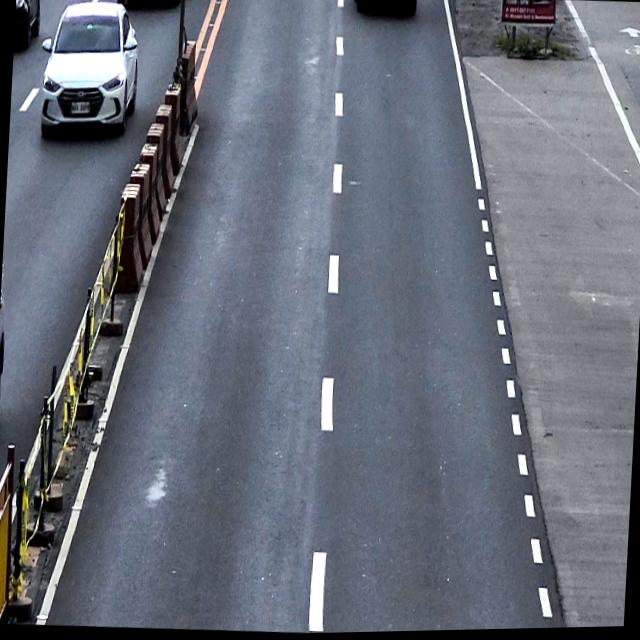Car: (38, 0, 144, 138), (14, 0, 43, 56)
License-Plate: (70, 101, 92, 117)
